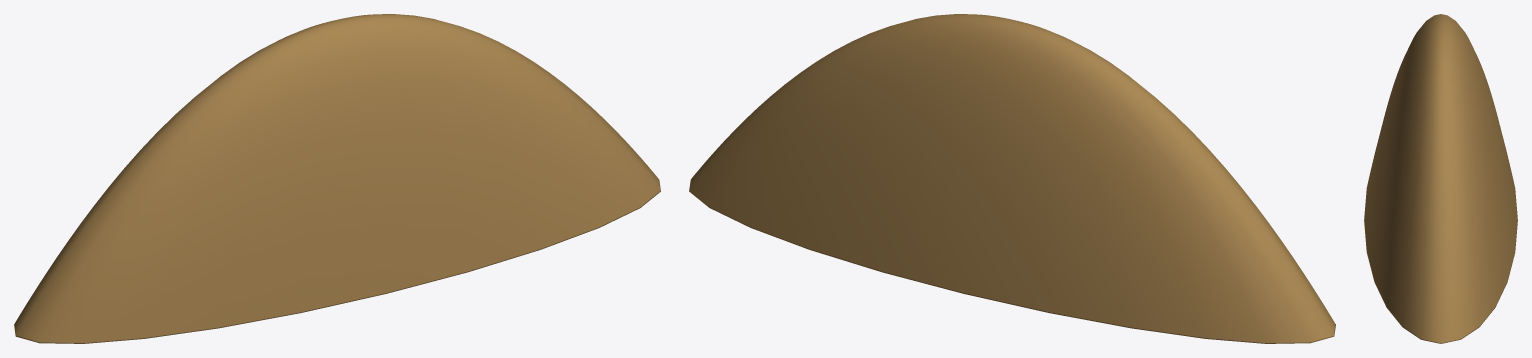
The model's file is level1.glb.
3 views of the same model, side by side, from view 1: azimuth 30°, elevation 25°; view 2: azimuth 150°, elevation 25°; view 3: azimuth 270°, elevation 25° (orthographic). The views are drawn at different scales.
Visible parts, largest first — view 1: obj_0; view 2: obj_0; view 3: obj_0.
Boxes of the visible parts, bbox=[...] form: obj_0: bbox=[14, 14, 660, 343]; obj_0: bbox=[689, 14, 1335, 343]; obj_0: bbox=[1364, 14, 1517, 343].
Bounding box in the file's own units: 57 × 20 × 15.
